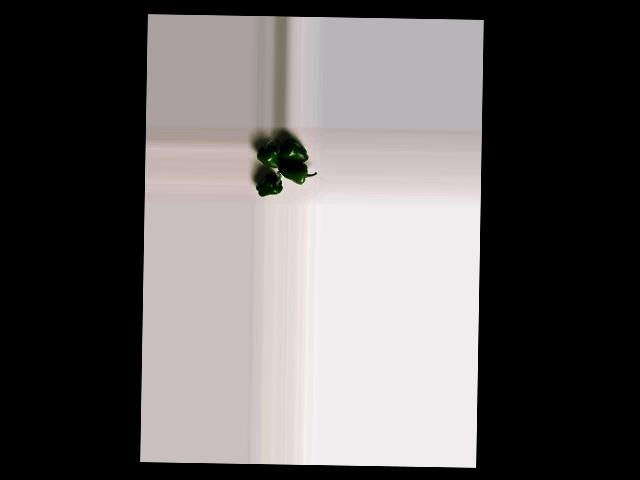bell_pepper: (257, 140, 278, 169)
